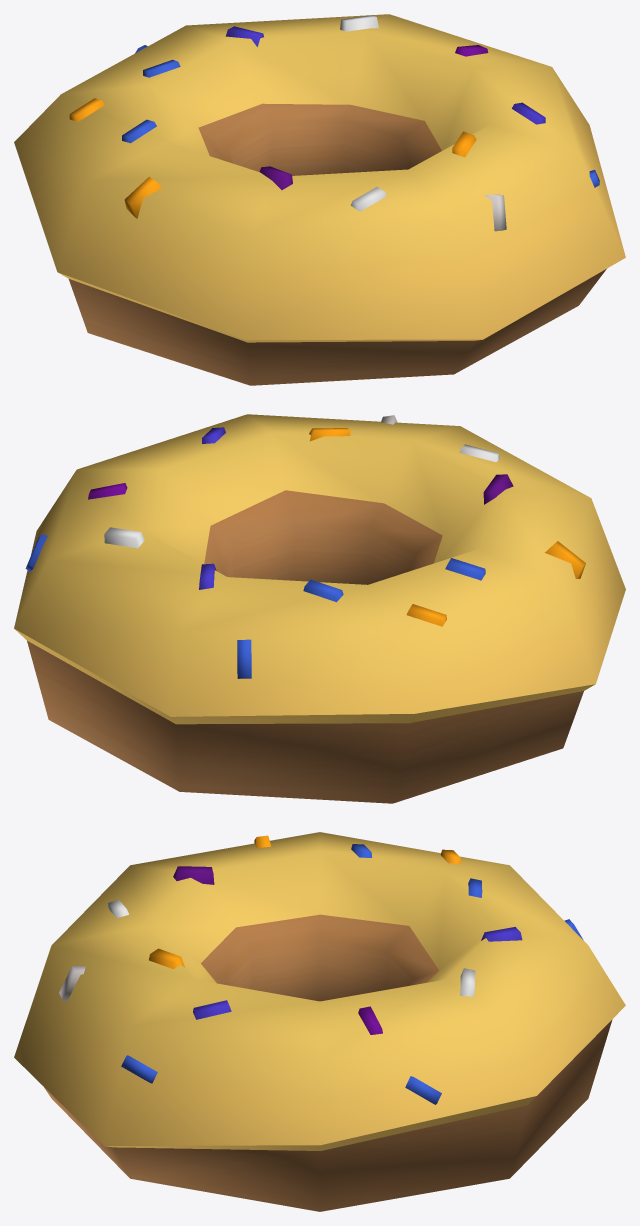
The model's file is Donat_1_B.fbx.
3 renders of one model, top to bottom at view 1: azimuth 30°, elevation 25°; view 2: azimuth 150°, elevation 25°; view 3: azimuth 270°, elevation 25°, orthographic. The views are drawn at different scales.
Parts seen in each view (by area): view 1: Donat_1_B; view 2: Donat_1_B; view 3: Donat_1_B.
Part boxes in pixels (box(x1,y1,x2,y2)): Donat_1_B: box(14, 14, 625, 385); Donat_1_B: box(14, 414, 625, 803); Donat_1_B: box(14, 832, 625, 1211).
Bounding box in the file's own units: 16.29 × 5.79 × 16.17.
